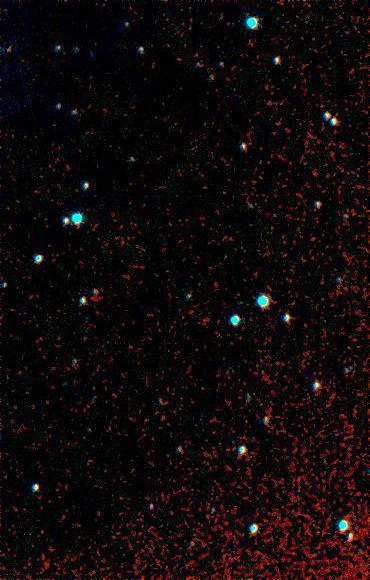star: (0, 35, 25, 65)
